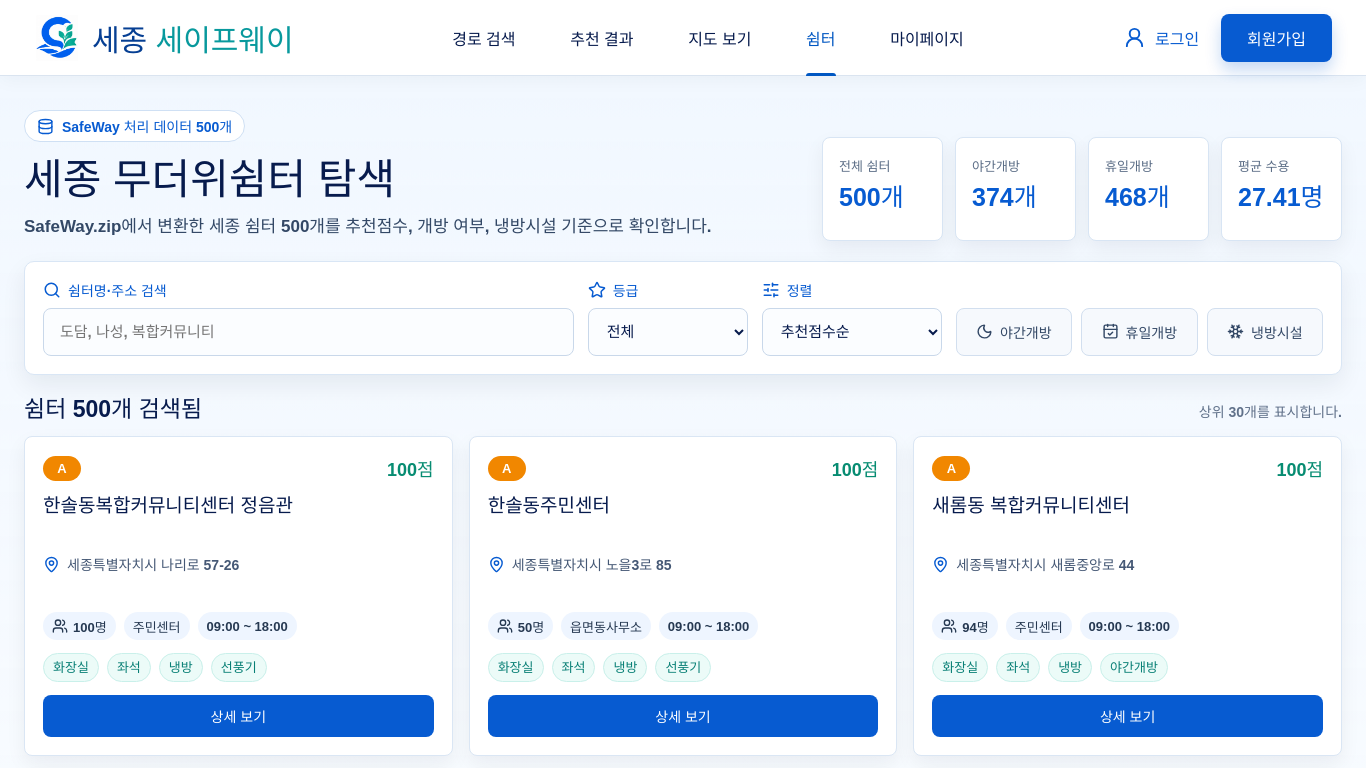
it: ShelterListPage › filters generated shelters by keyword and links to generated detail pages
Type "도담" into the field labelled "쉼터명·주소 검색". click: (308, 332)
box: [43, 308, 574, 356]
(page scrolled)
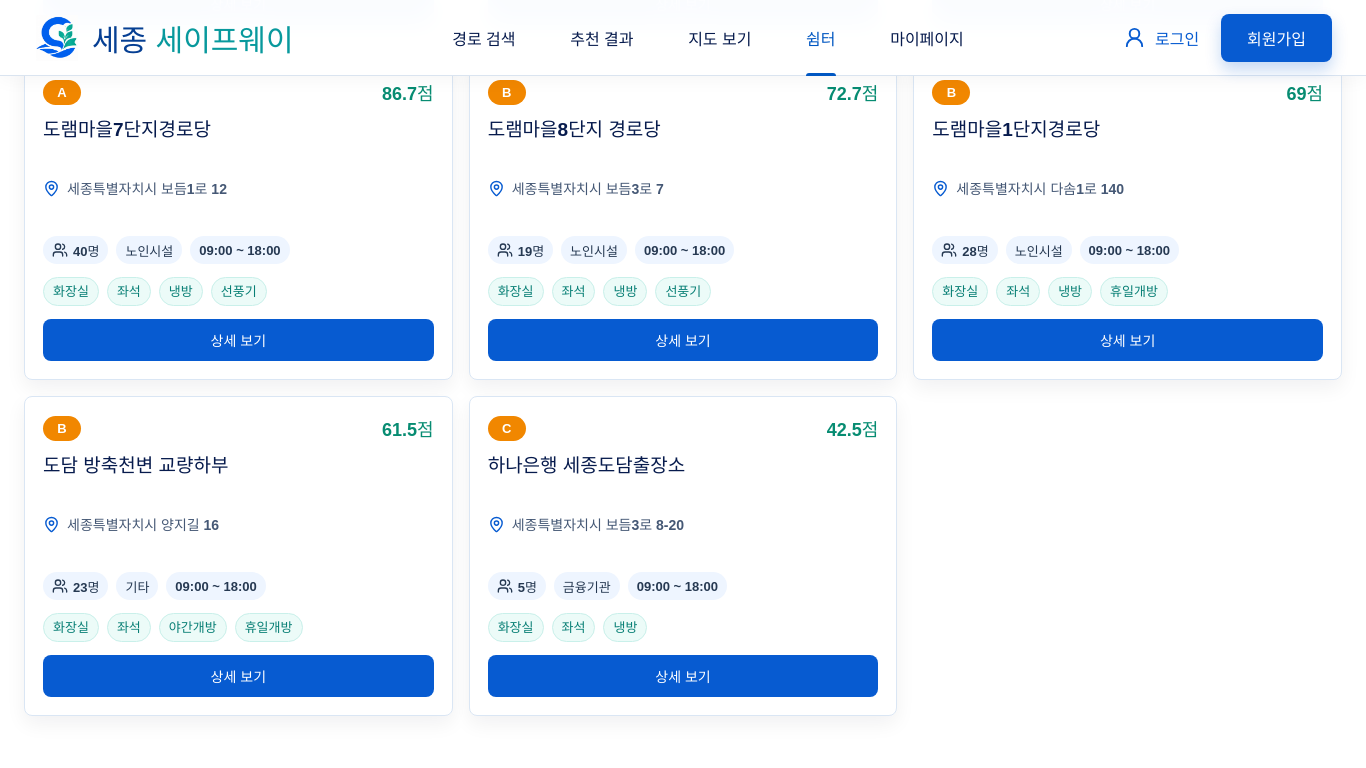
Now the heading "도담 방축천변 교량하부" is shown, box [43, 455, 228, 476]
Now the text "세종특별자치시 양지길 16" is shown, box [43, 516, 219, 533]
